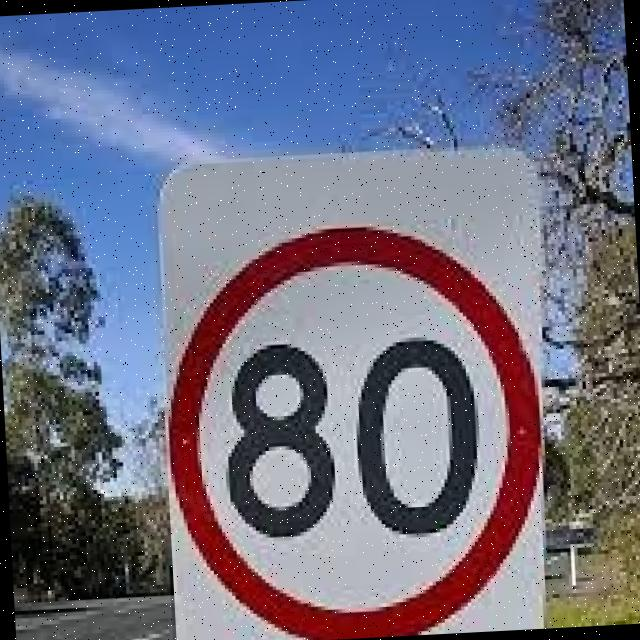speed_limit_80: (151, 217, 560, 640)
